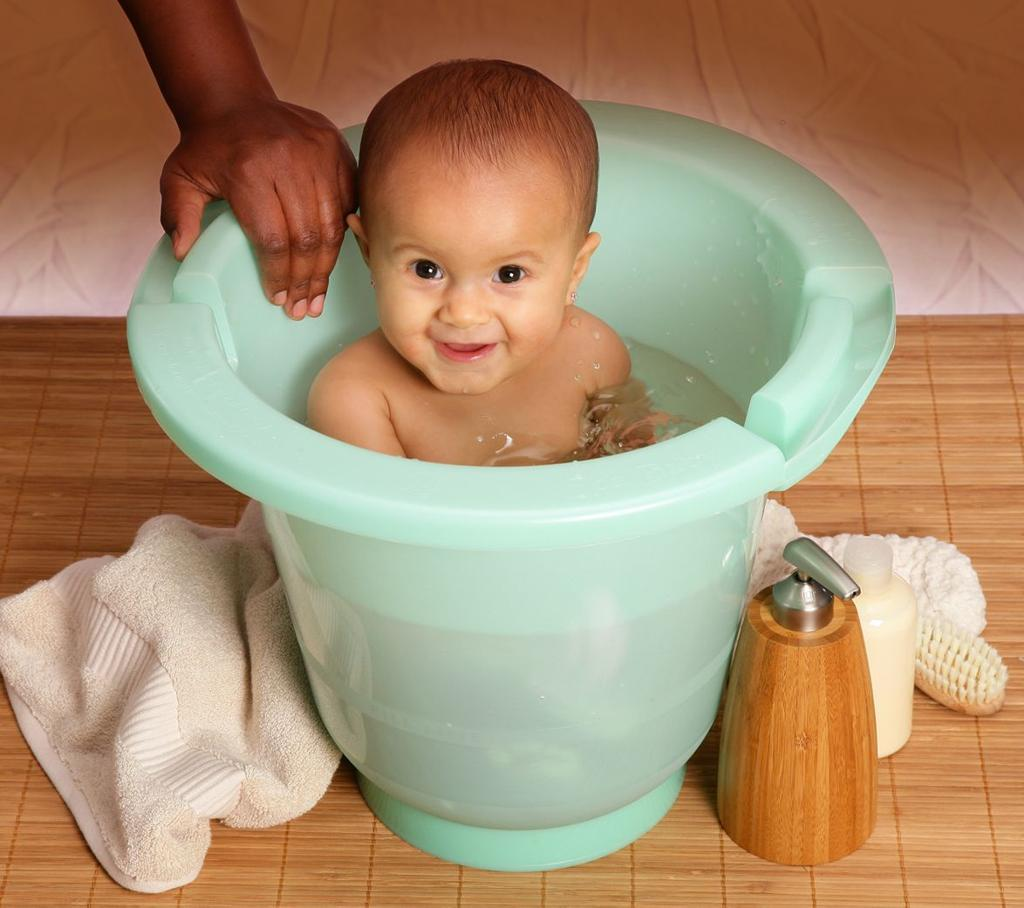face: (367, 183, 567, 393)
